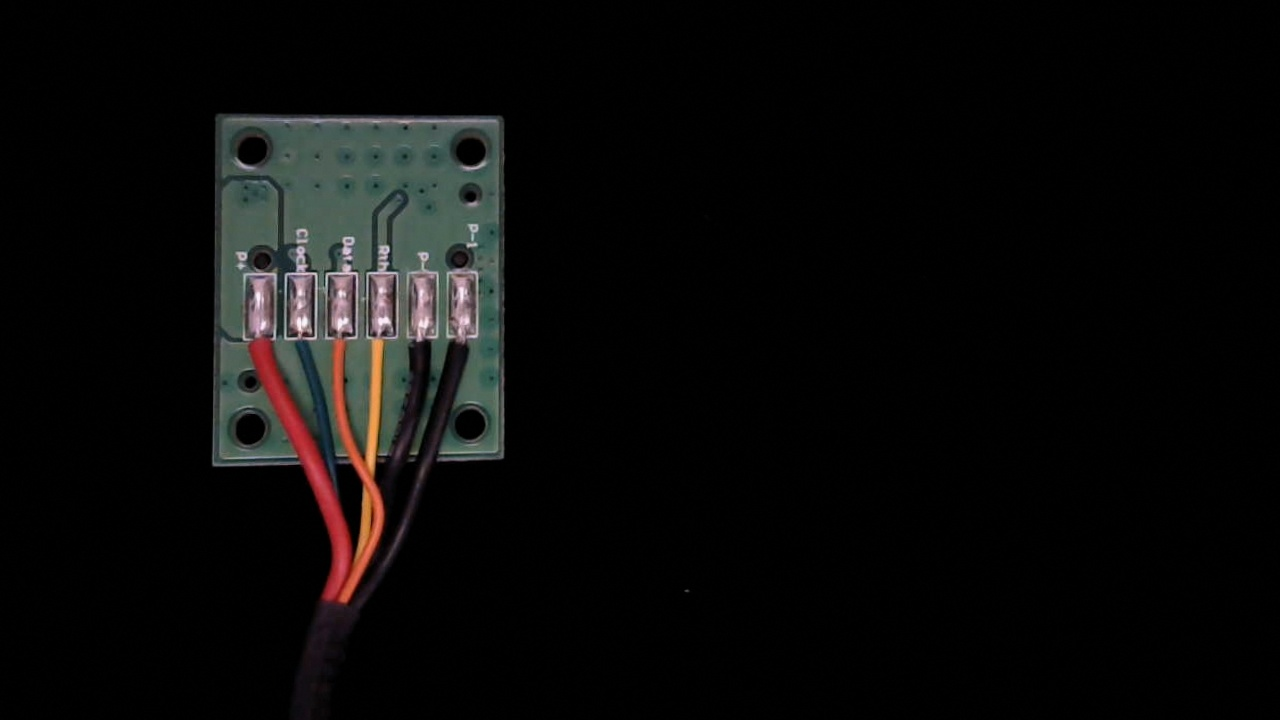Black: (404, 313, 440, 389)
Black1: (444, 313, 479, 384)
Green: (284, 313, 320, 387)
Orange: (324, 314, 358, 390)
Red: (240, 313, 276, 387)
Yellow: (363, 313, 399, 390)
